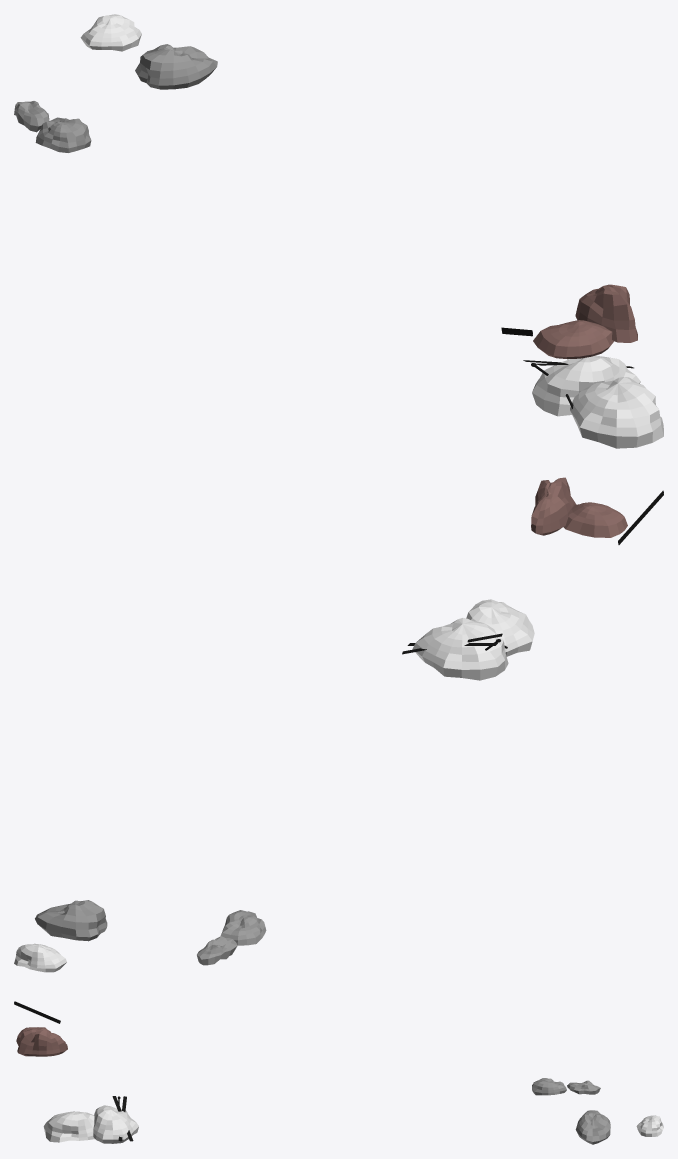
File: rubble.fbx
3 views of the same model, one above another, from view 1: azimuth 30°, elevation 25°; view 2: azimuth 150°, elevation 25°; view 3: azimuth 270°, elevation 25° (orthographic). The views are drawn at different scales.
Parts seen in each view (by area): view 1: Escombros07, Escombros00, Escombros02, Escombros06, Escombros03, Escombros05, Escombros01, Escombros04; view 2: Escombros00, Escombros02, Escombros07, Escombros06, Escombros03, Escombros01, Escombros05, Escombros04; view 3: Escombros07, Escombros00, Escombros06, Escombros02, Escombros01, Escombros05, Escombros04.
Part boxes in pixels (x1,y1,x2,y2): Escombros07: (570, 377, 663, 448); Escombros00: (532, 355, 640, 416); Escombros02: (135, 44, 217, 89); Escombros06: (575, 284, 637, 342); Escombros03: (533, 320, 614, 359); Escombros05: (80, 14, 141, 51); Escombros01: (35, 117, 91, 152); Escombros04: (14, 101, 49, 132); Escombros00: (412, 618, 508, 680); Escombros02: (35, 900, 107, 941); Escombros07: (466, 599, 534, 656); Escombros06: (531, 477, 576, 535); Escombros03: (563, 502, 627, 537); Escombros01: (220, 910, 266, 945); Escombros05: (14, 943, 66, 972); Escombros04: (197, 936, 237, 965); Escombros07: (43, 1111, 94, 1142); Escombros00: (93, 1105, 138, 1143); Escombros06: (17, 1028, 67, 1056); Escombros02: (575, 1110, 610, 1144); Escombros01: (532, 1078, 566, 1095); Escombros05: (636, 1115, 663, 1136); Escombros04: (567, 1080, 600, 1094).
Bounding box in the file's own units: 155 × 716 × 118.
